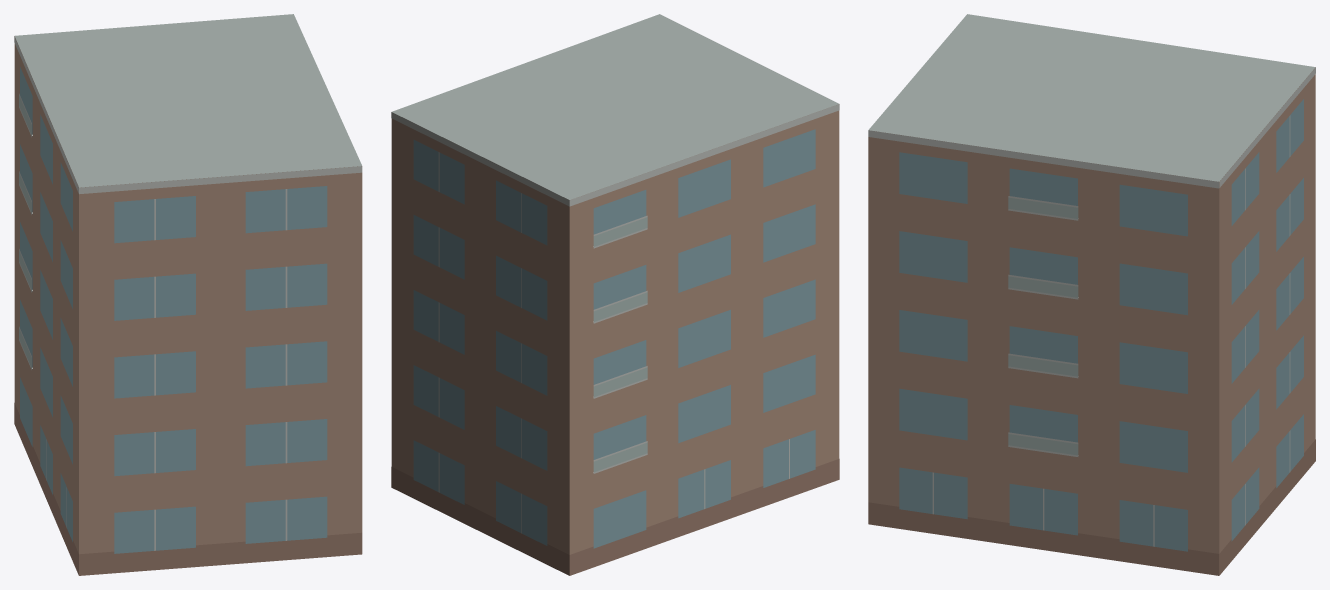
Rendered from survey-upis-32884235.glb.
3 renders of one model, left to right at view 1: azimuth 30°, elevation 25°; view 2: azimuth 150°, elevation 25°; view 3: azimuth 270°, elevation 25°, orthographic. The views are drawn at different scales.
Visible parts, largest first — view 1: survey-upis-32884235.tmp; view 2: survey-upis-32884235.tmp; view 3: survey-upis-32884235.tmp.
Part boxes in pixels (<box>): survey-upis-32884235.tmp: <box>14,14,362,575</box>; survey-upis-32884235.tmp: <box>391,14,839,575</box>; survey-upis-32884235.tmp: <box>868,14,1315,575</box>.
Size of the model in its own units: 13.07 by 14.3 by 14.73.
